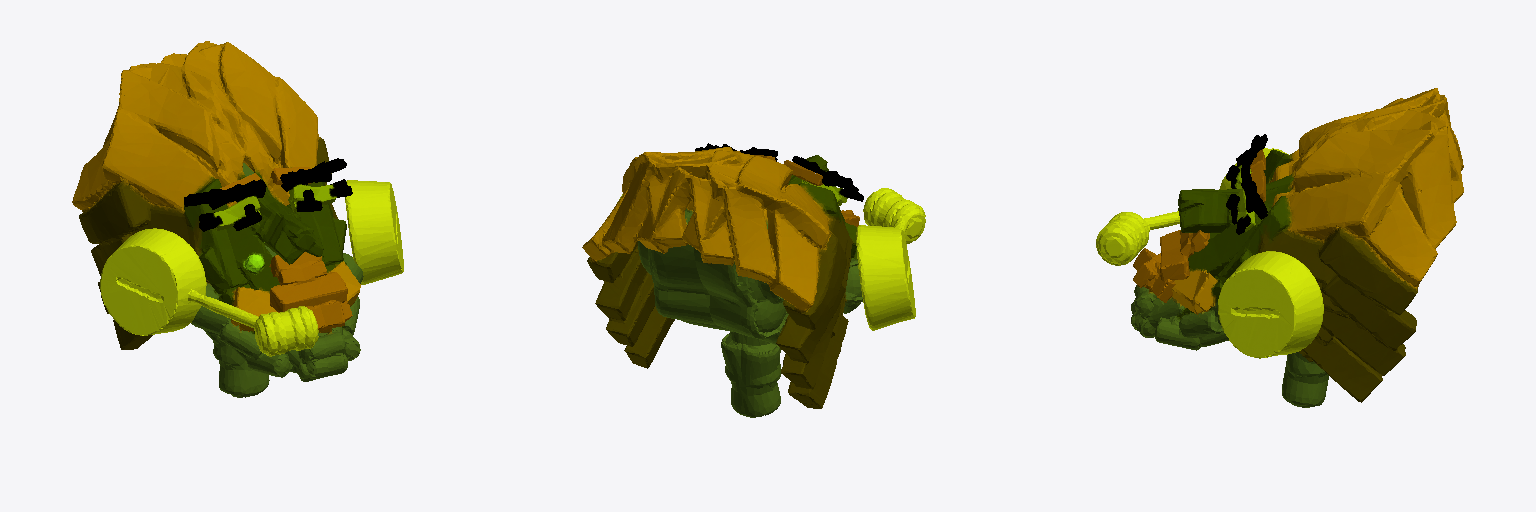
3 views of the same model, side by side, from view 1: azimuth 30°, elevation 25°; view 2: azimuth 150°, elevation 25°; view 3: azimuth 270°, elevation 25° (orthographic).
Visible parts, largest first — view 1: group Layer_2, group Layer_4, group Layer_3, Layer_1 group; view 2: group Layer_2, group Layer_4, Layer_1 group, group Layer_3; view 3: group Layer_2, group Layer_4, group Layer_3, Layer_1 group.
Boxes of the visible parts, x1,y1,x2,y2 form: group Layer_2: [72, 41, 363, 397]; group Layer_4: [100, 180, 403, 356]; group Layer_3: [220, 167, 352, 331]; Layer_1 group: [184, 158, 352, 231]; group Layer_2: [582, 147, 862, 417]; group Layer_4: [617, 188, 925, 330]; Layer_1 group: [695, 143, 863, 205]; group Layer_3: [754, 155, 859, 226]; group Layer_2: [1131, 88, 1463, 407]; group Layer_4: [1096, 148, 1323, 358]; group Layer_3: [1133, 149, 1265, 302]; Layer_1 group: [1231, 134, 1267, 234].
Bounding box in the file's own units: 93.51 × 88.48 × 100.
5 materials, 5 textured.